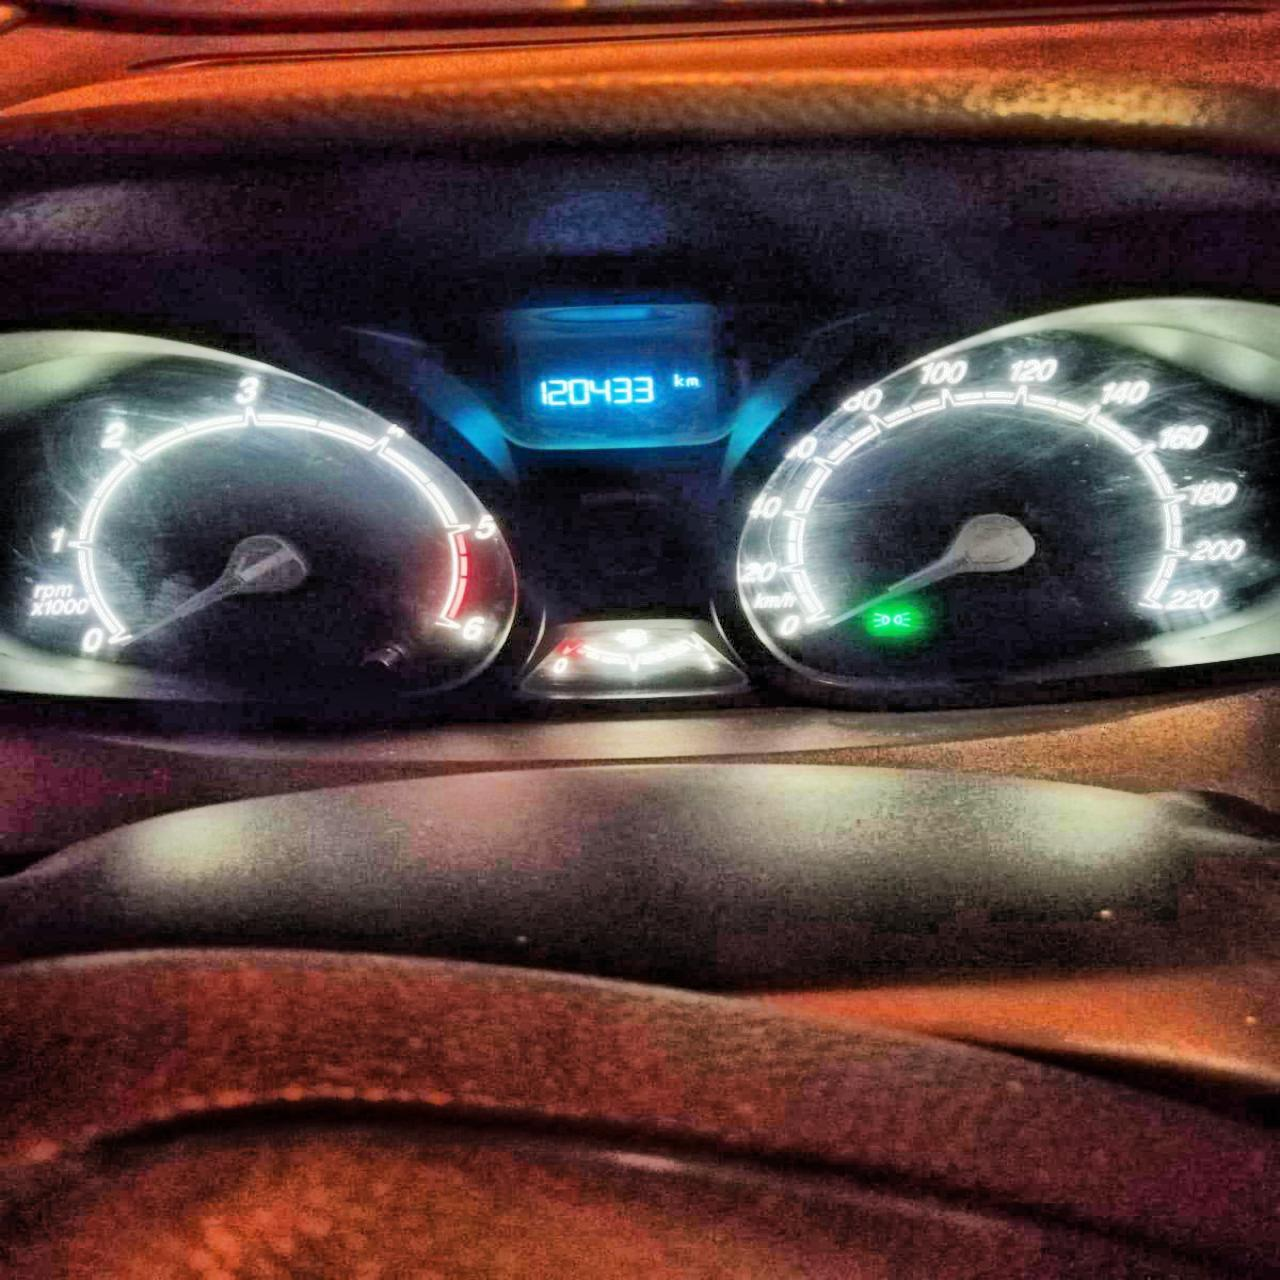0: (567, 376, 591, 406)
1: (533, 374, 550, 411)
2: (547, 376, 565, 407)
3: (632, 374, 655, 403), (612, 375, 631, 404)
4: (590, 377, 611, 406)
X: (685, 375, 700, 387), (673, 372, 682, 387)
odometer: (516, 358, 716, 429)
